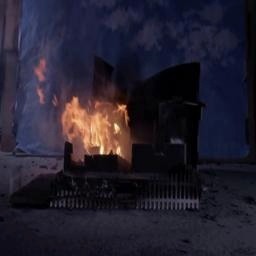fire: (53, 80, 134, 163)
